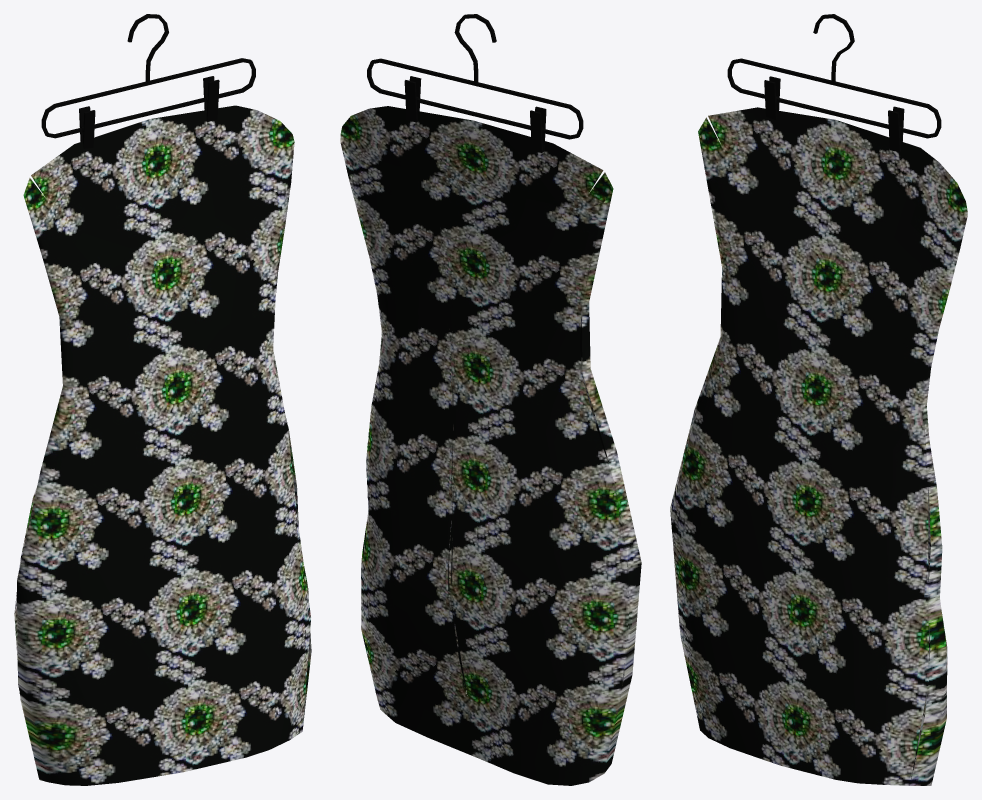
The model's file is hanged_dress.FBX.
3 views of the same model, side by side, from view 1: azimuth 30°, elevation 25°; view 2: azimuth 150°, elevation 25°; view 3: azimuth 330°, elevation 25° (orthographic).
Visible parts, largest first — view 1: robe_opti001, Rectangle002, Line001; view 2: robe_opti001, Rectangle002, Line001; view 3: robe_opti001, Rectangle002, Line001.
Part boxes in pixels (x1,y1,x2,y2): robe_opti001: [14, 105, 311, 785]; Rectangle002: [41, 58, 255, 138]; Line001: [127, 14, 168, 82]; robe_opti001: [340, 106, 641, 785]; Rectangle002: [367, 58, 583, 139]; Line001: [454, 14, 496, 84]; robe_opti001: [670, 107, 967, 785]; Rectangle002: [727, 58, 941, 138]; Line001: [813, 14, 854, 82].
Size of the model in its own units: 32.09 by 79.58 by 9.91.
Materials: 2 (1 with a texture image).
